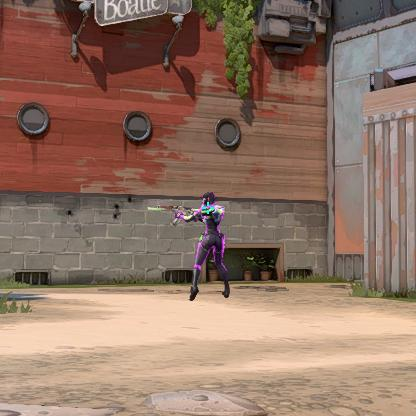enemyBody: (206, 207, 217, 229)
enemyHead: (205, 195, 213, 203)
